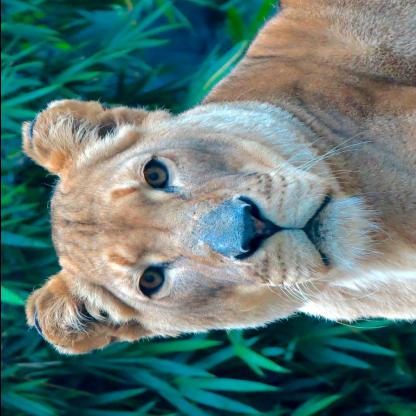lion: (13, 96, 389, 354)
